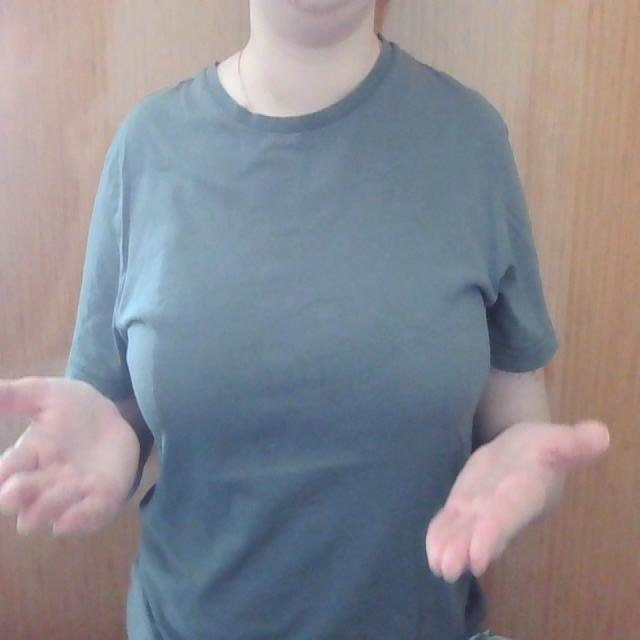Evet: (0, 369, 614, 587)
